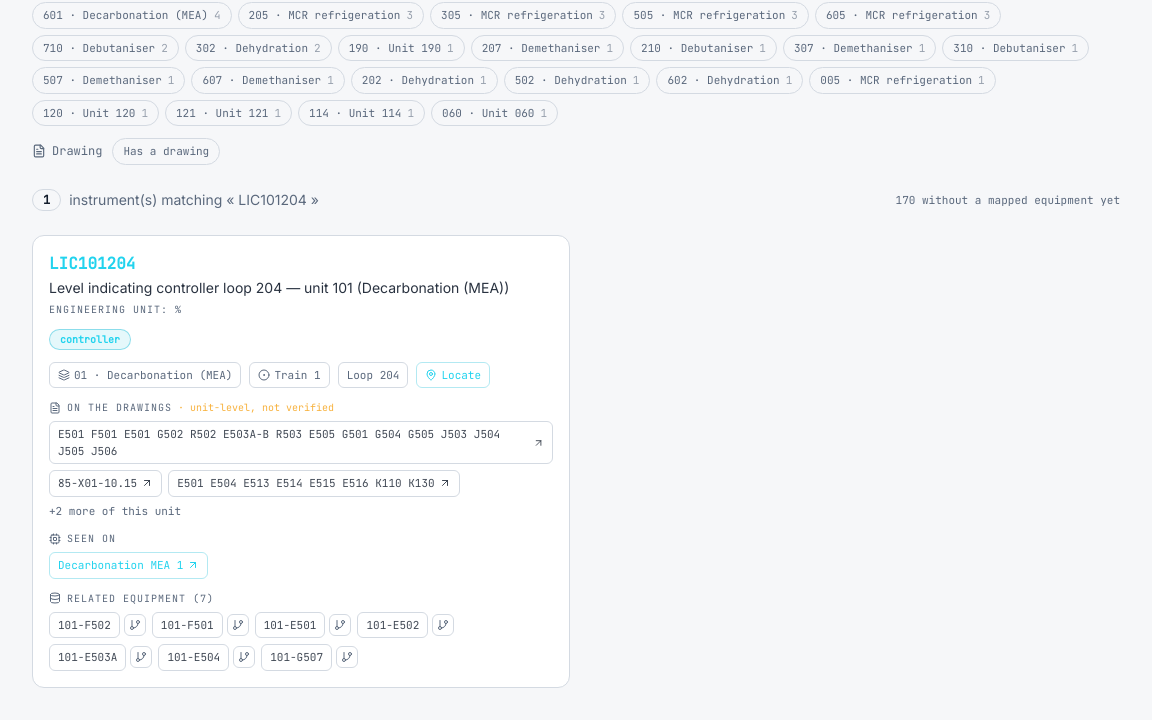
Test: Instrument Finder on the drawings › opens the locator: where it is, what is around it, and what is unknown
The image size is (1152, 720).
(page scrolled)
Click the button "Locate" at (453, 375), box [416,362,490,388]
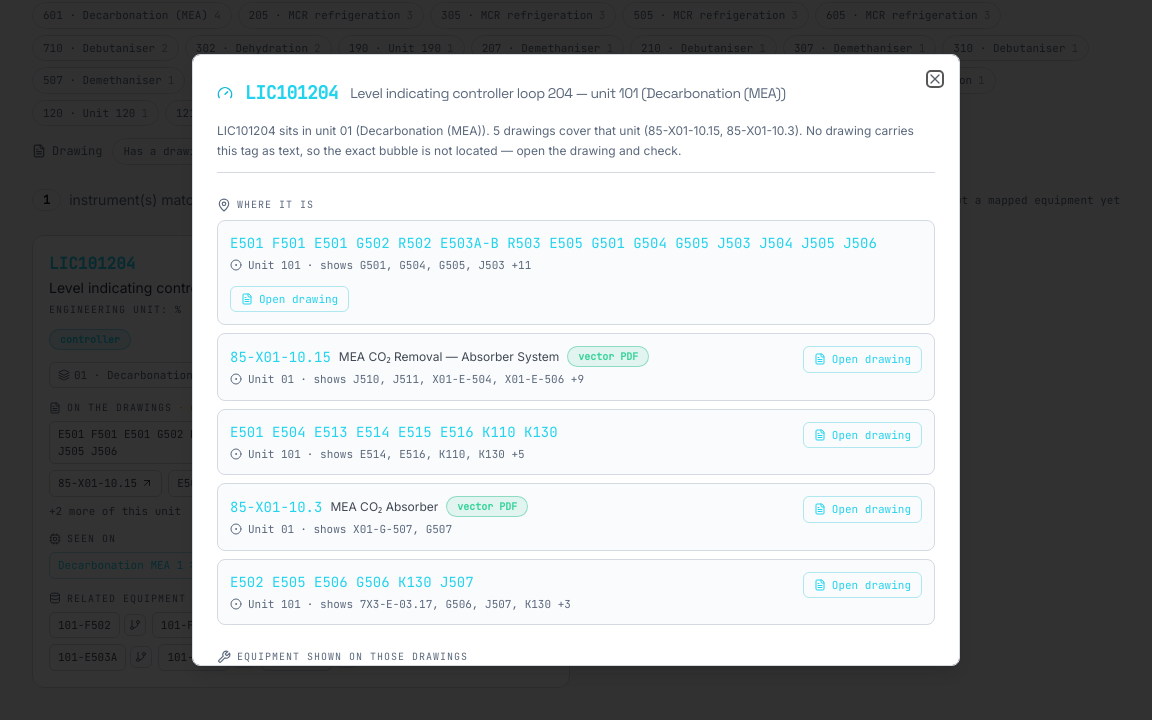
expect the element with test id "locator-equipment" does not show "": met
expect the element with test id "locator-placements" shows "85-X01": met, box [230,348,331,366]
expect the link "Open drawing" below "G501, G504, G505, J503" is shown: met, box [230,286,349,312]
